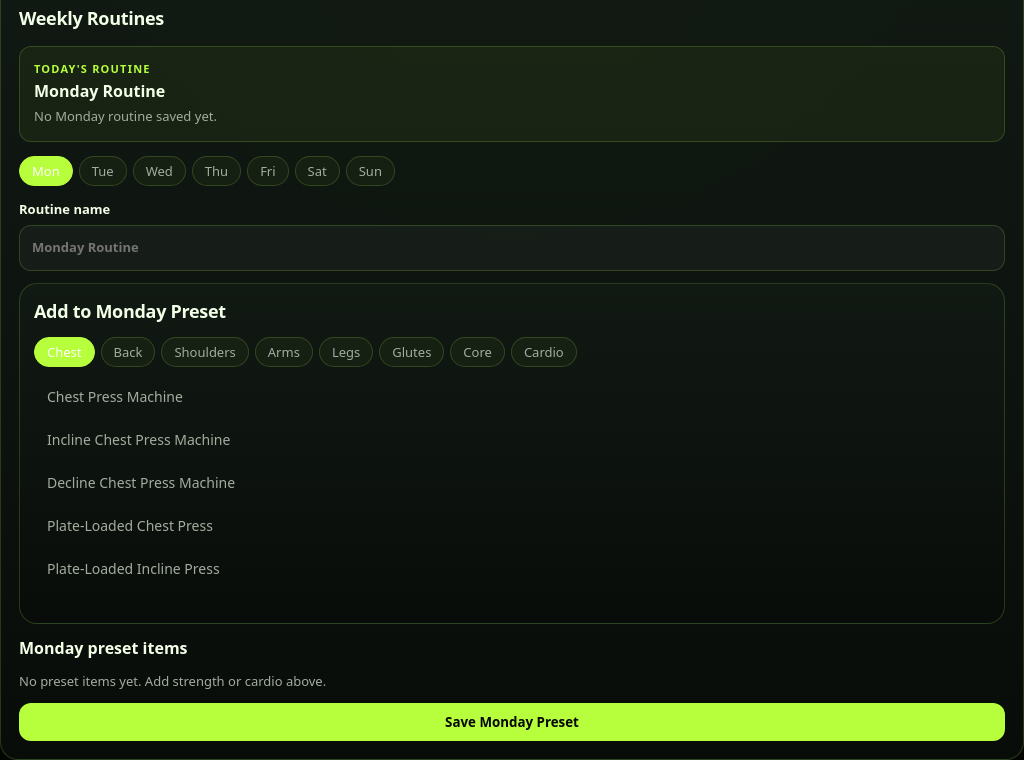
WeeklyRoutines › shows a Preset Saved confirmation when the user saves a preset
(page scrolled)
Click the button "Save Monday Preset": [512, 722] box [19,703,1005,741]
(page scrolled)
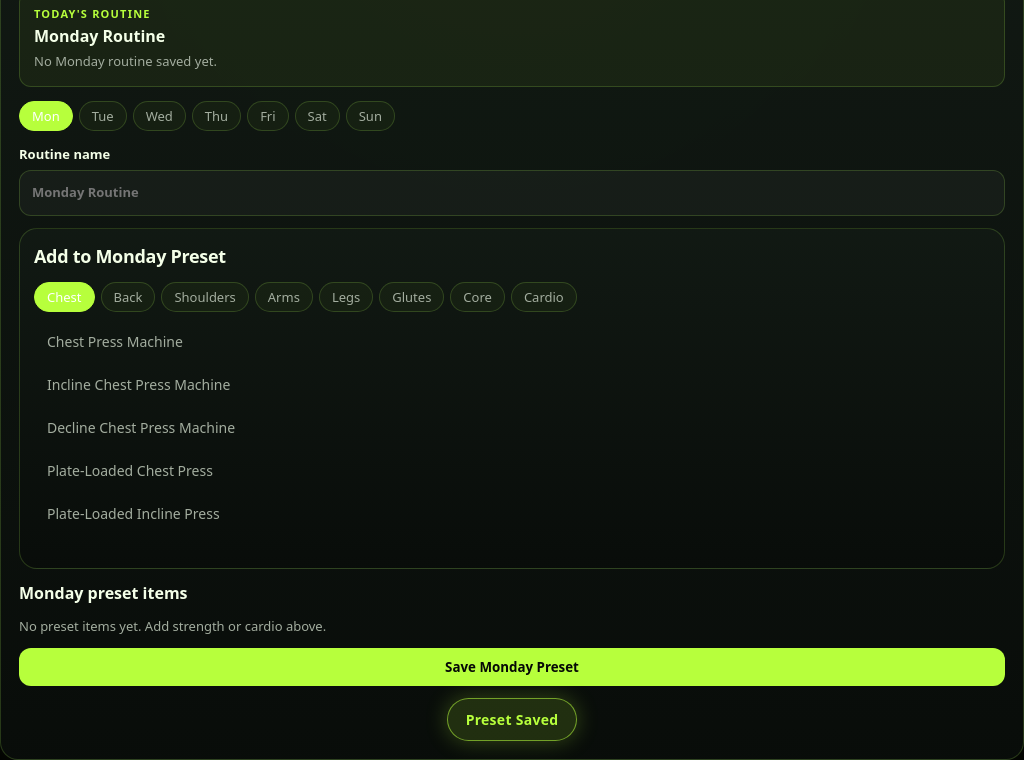
Result: the message reads "Preset Saved" at [466,710,558,729]
